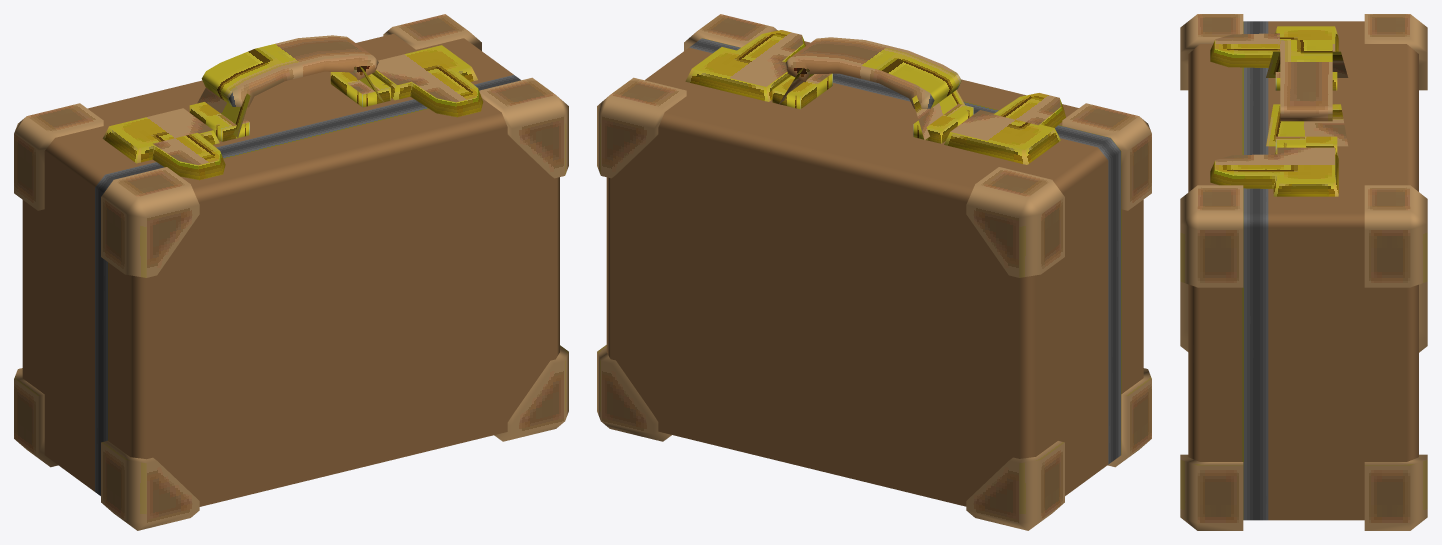
Rendered from rmk_oth_suitcaseM.dae.
3 views of the same model, side by side, from view 1: azimuth 30°, elevation 25°; view 2: azimuth 150°, elevation 25°; view 3: azimuth 270°, elevation 25° (orthographic). The views are drawn at different scales.
Visible parts, largest first — view 1: rmk_oth_suitcaseM; view 2: rmk_oth_suitcaseM; view 3: rmk_oth_suitcaseM.
Part boxes in pixels (box(x1,y1,x2,y2)): rmk_oth_suitcaseM: box(14, 14, 568, 530); rmk_oth_suitcaseM: box(597, 14, 1151, 530); rmk_oth_suitcaseM: box(1180, 14, 1427, 530).
Size of the model in its own units: 28.8 by 23.87 by 14.46.
Materials: 2 (2 with a texture image).
